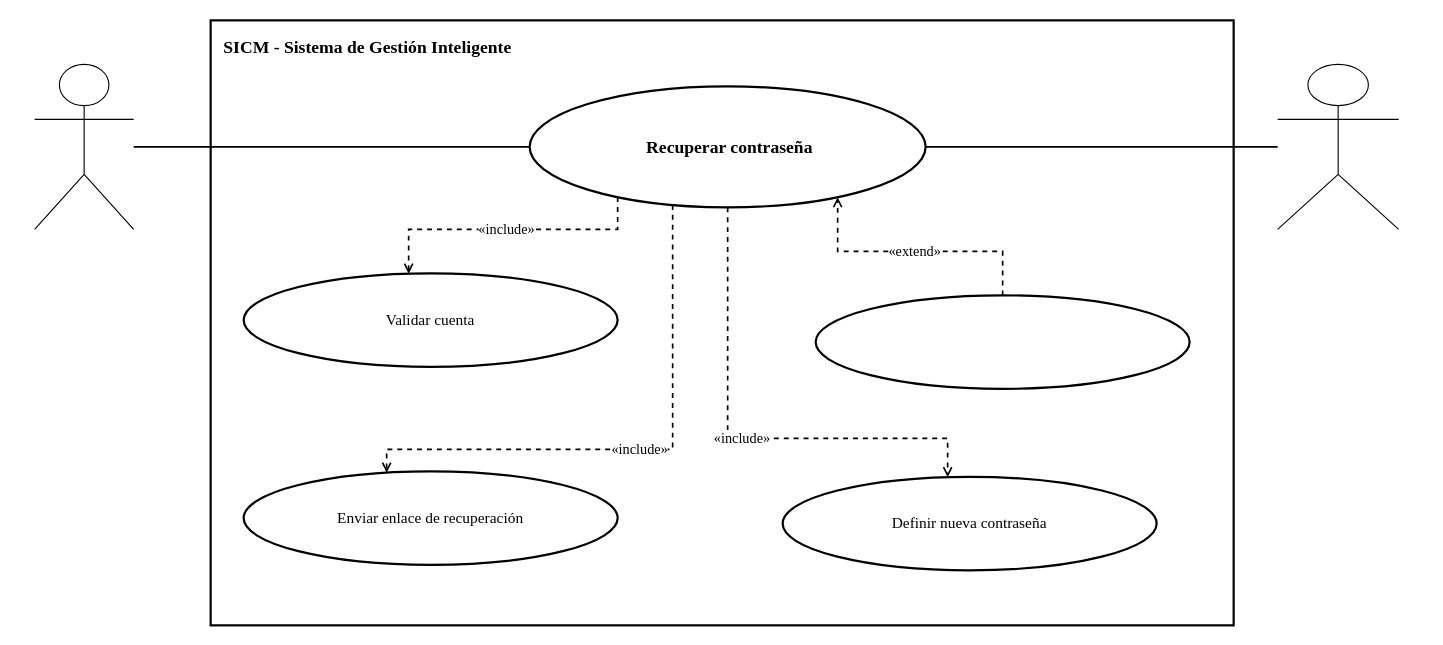
This 1443x645 diagram has some shape labels left out. The shapes that lost their labels are listed below. From the top down, each one's centre as x and y in pixels, then its label:
the point at 84,146: Usuario del sistema
the point at 1338,146: Sistema de Notificaciones
the point at 1002,341: Cuenta no valida
